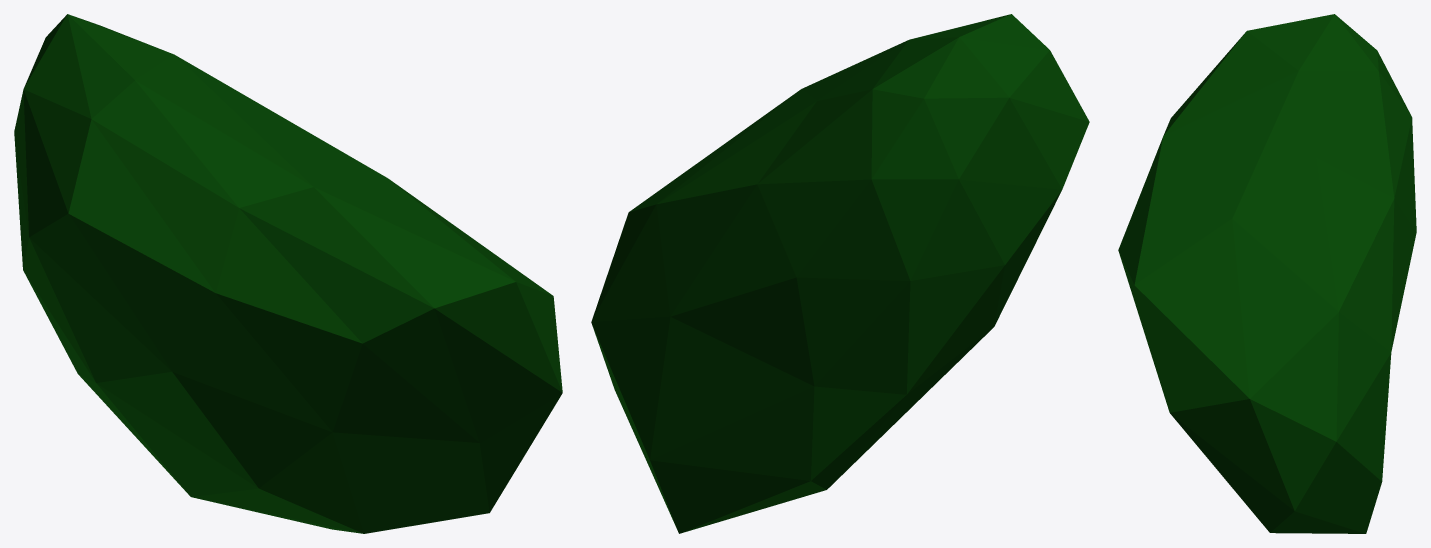
3 views of the same model, side by side, from view 1: azimuth 30°, elevation 25°; view 2: azimuth 150°, elevation 25°; view 3: azimuth 270°, elevation 25° (orthographic). The views are drawn at different scales.
Visible parts, largest first — view 1: forest20_1; view 2: forest20_1; view 3: forest20_1.
Boxes of the visible parts, x1,y1,x2,y2 form: forest20_1: (14,14,562,533); forest20_1: (591,14,1089,533); forest20_1: (1118,14,1416,533).
Size of the model in its own units: 172 by 126 by 197.
